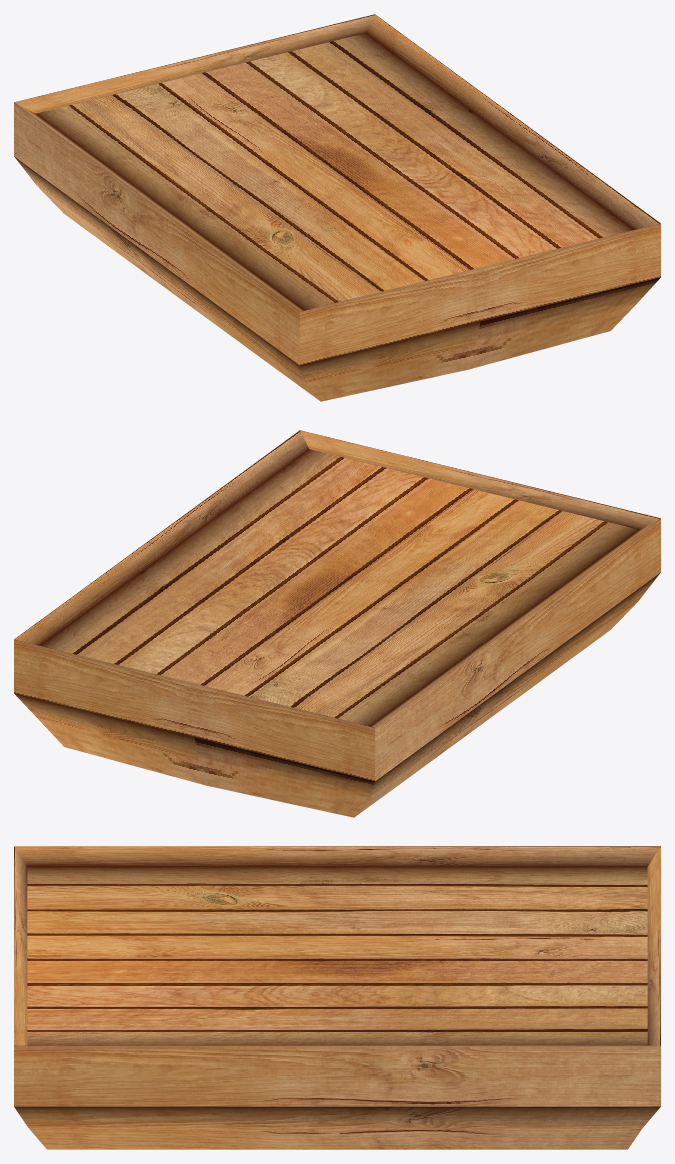
File: boat_model.gltf
The picture shows the model from 3 angles, top to bottom: view 1: azimuth 30°, elevation 25°; view 2: azimuth 150°, elevation 25°; view 3: azimuth 270°, elevation 25°; orthographic projection. The views are drawn at different scales.
Visible parts, largest first — view 1: Boat; view 2: Boat; view 3: Boat.
Boxes of the visible parts, x1,y1,x2,y2 form: Boat: [14, 14, 660, 401]; Boat: [14, 430, 660, 817]; Boat: [14, 846, 660, 1149].
Bounding box in the file's own units: 8.75 × 2.58 × 12.
Materials: 1 (1 with a texture image).
